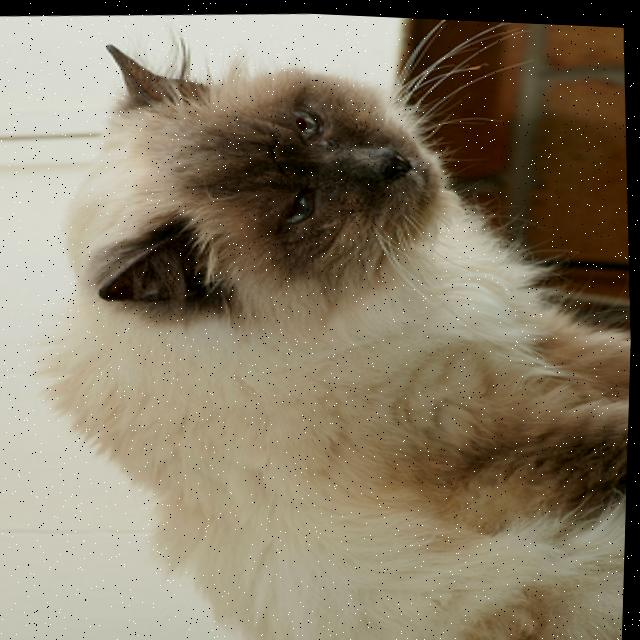Birman: (8, 11, 640, 640)
